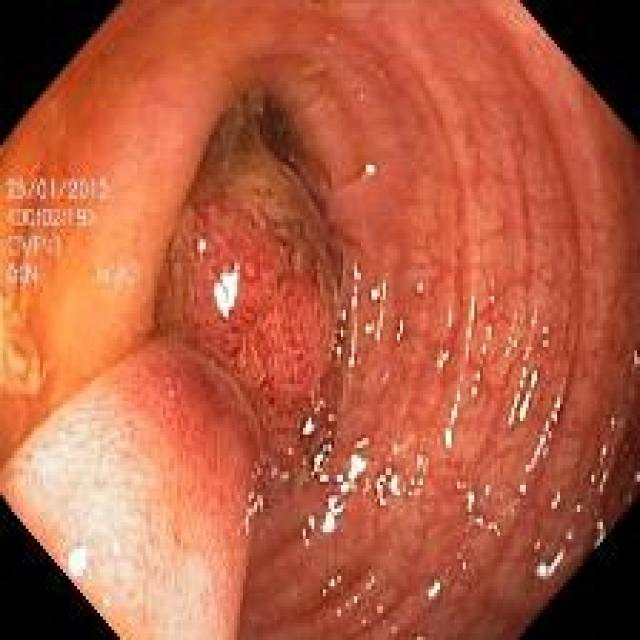Polyps: (155, 88, 341, 481)
